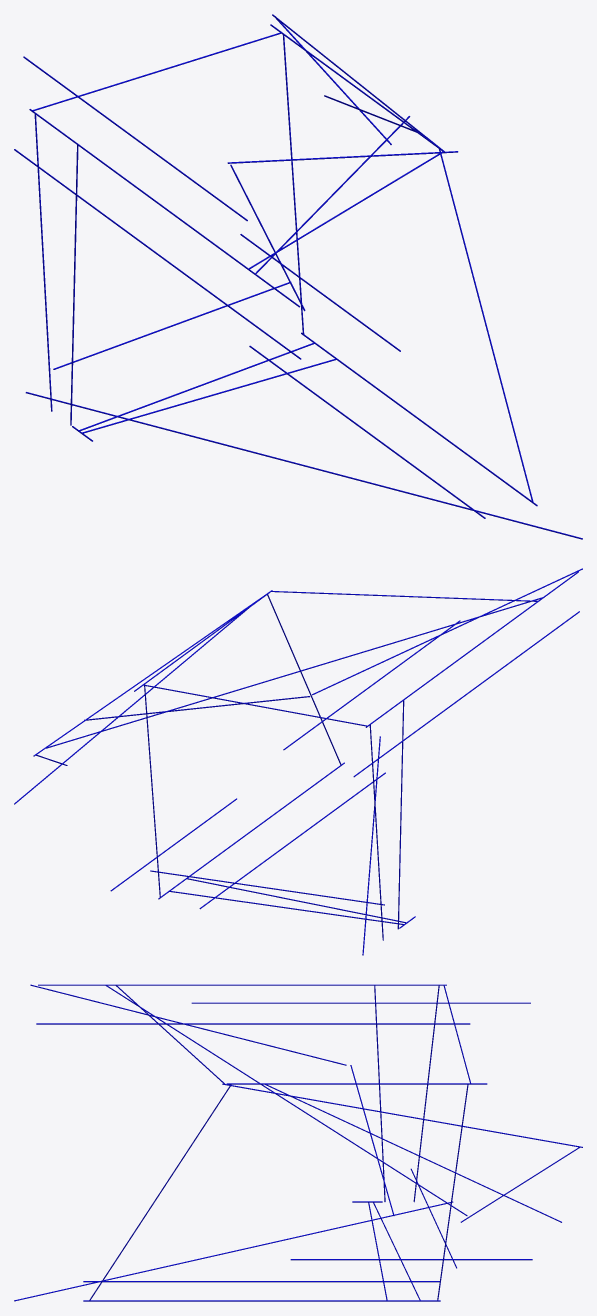
The model's file is corrected_3d_strokes.glb.
3 renders of one model, top to bottom at view 1: azimuth 30°, elevation 25°; view 2: azimuth 150°, elevation 25°; view 3: azimuth 270°, elevation 25°, orthographic. The views are drawn at different scales.
Visible parts, largest first — view 1: world; view 2: world; view 3: world.
Boxes of the visible parts, box(x1,y1,x2,y2) form: world: box(14, 14, 582, 539); world: box(14, 568, 582, 955); world: box(14, 984, 582, 1301).
Bounding box in the file's own units: 11.54 × 8.05 × 19.04.
